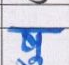u_matra: (17, 54, 46, 65)
